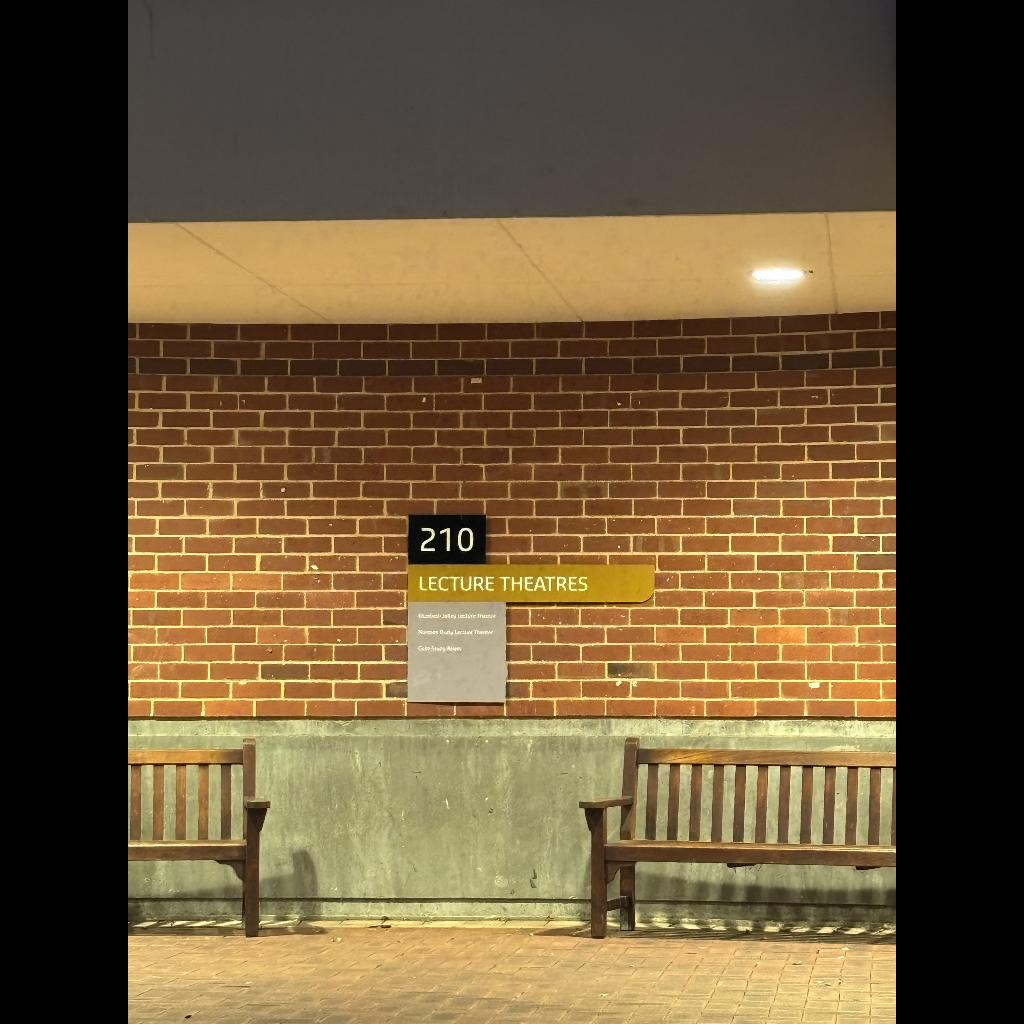BuildingCodes: (417, 522, 477, 556)
